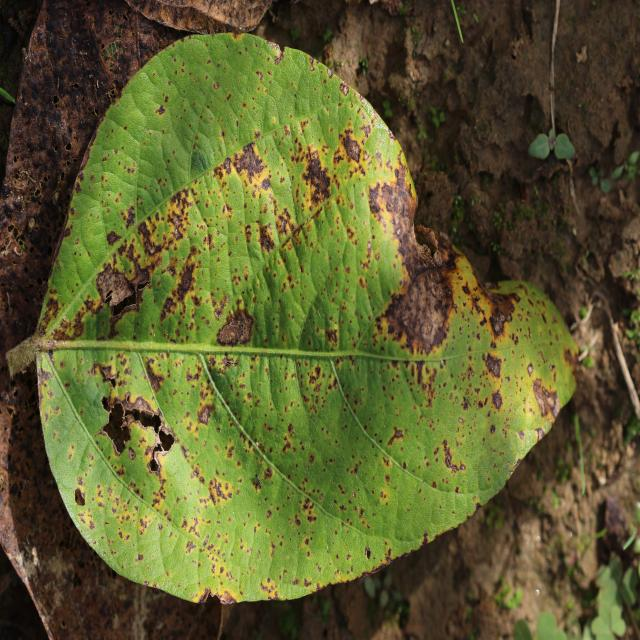Bacterial_Blight: (369, 167, 460, 367), (484, 281, 583, 418), (154, 227, 218, 335), (173, 397, 232, 500), (223, 144, 282, 246), (370, 171, 413, 229), (301, 145, 331, 207), (97, 266, 138, 311), (119, 392, 161, 424), (91, 360, 118, 389), (218, 590, 239, 606)
Soybean: (9, 34, 575, 602)
